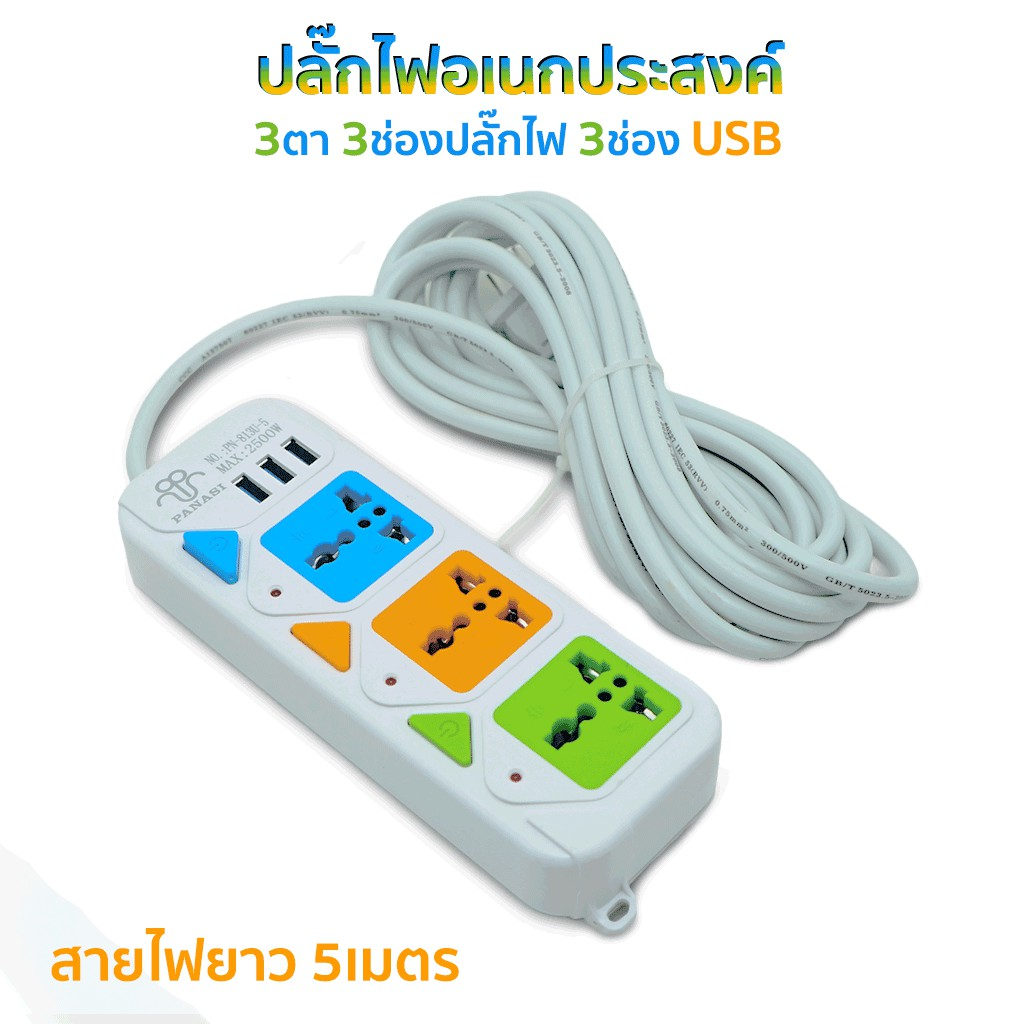Three_eye_plug: (104, 362, 754, 942)
